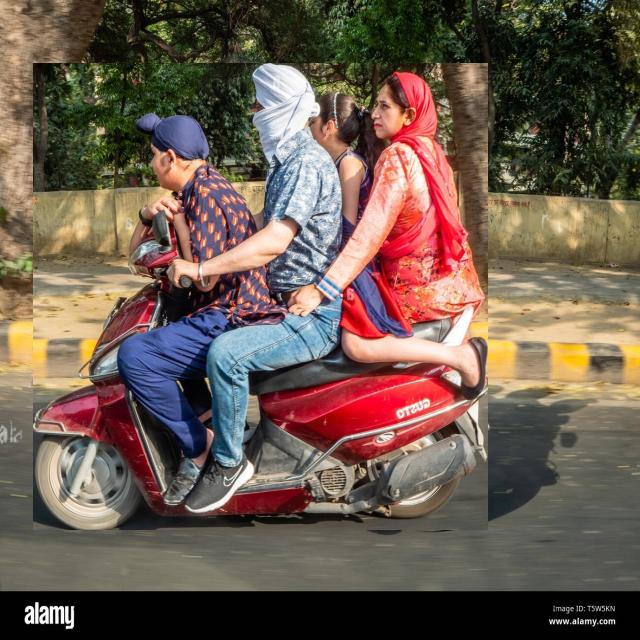motorcycle: (34, 63, 488, 530)
